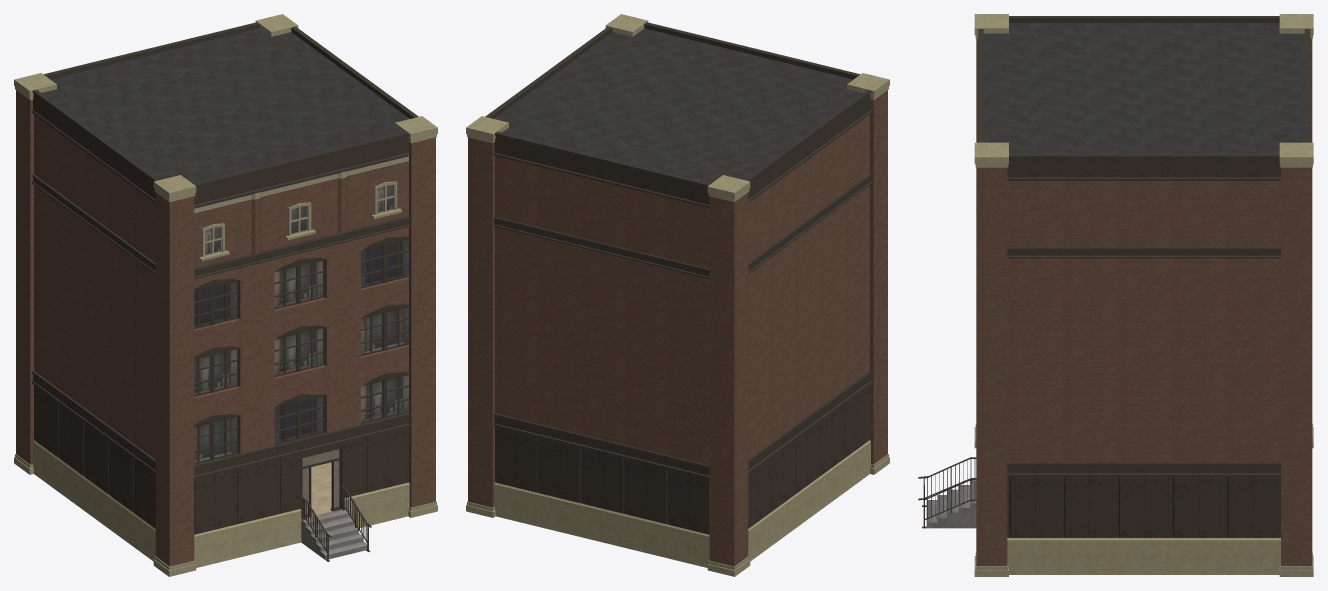
File: kit.glb
3 renders of one model, left to right at view 1: azimuth 30°, elevation 25°; view 2: azimuth 150°, elevation 25°; view 3: azimuth 270°, elevation 25°, orthographic. The views are drawn at different scales.
Visible parts, largest first — view 1: Building_Small_1; view 2: Building_Small_1; view 3: Building_Small_1.
Boxes of the visible parts, x1=… form: Building_Small_1: x1=14, y1=14, x2=437, y2=576; Building_Small_1: x1=466, y1=14, x2=889, y2=576; Building_Small_1: x1=918, y1=14, x2=1313, y2=576.
Size of the model in its own units: 12.46 by 17.03 by 14.54.
Materials: 10 (9 with a texture image).
